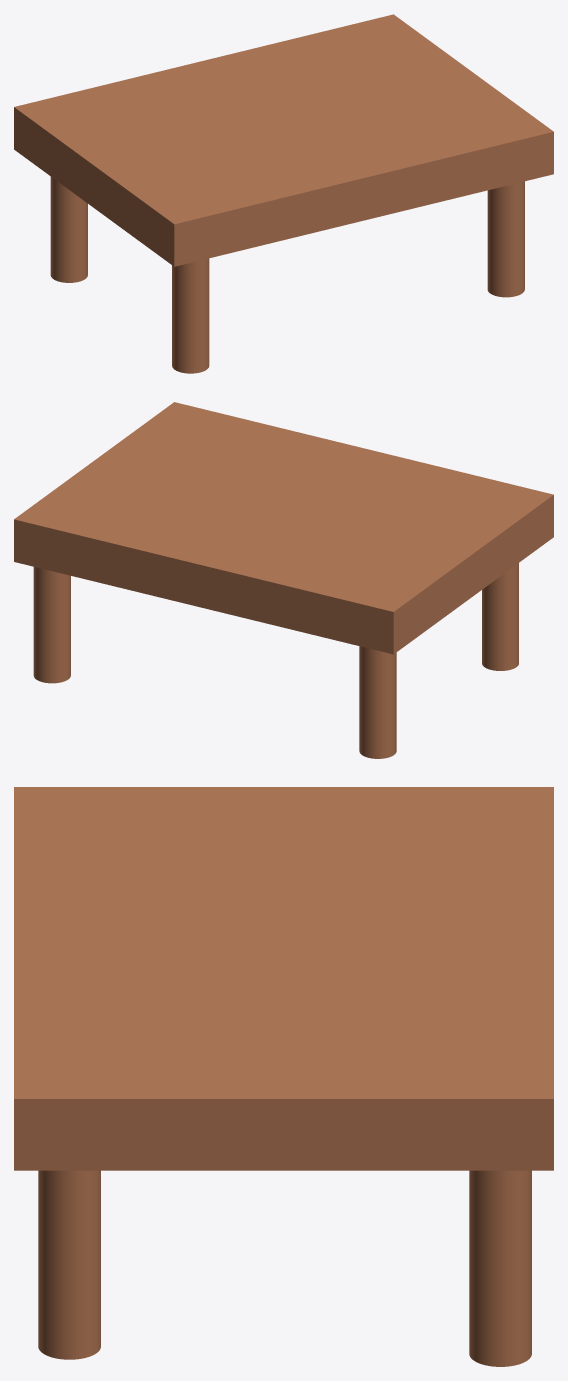
Rendered from table.glb.
3 renders of one model, top to bottom at view 1: azimuth 30°, elevation 25°; view 2: azimuth 150°, elevation 25°; view 3: azimuth 270°, elevation 25°, orthographic. The views are drawn at different scales.
Parts seen in each view (by area): view 1: mesh_id27, mesh_id35, mesh_id29, mesh_id36; view 2: mesh_id27, mesh_id37, mesh_id36, mesh_id29; view 3: mesh_id27, mesh_id37, mesh_id35.
Boxes of the visible parts, x1,y1,x2,y2 form: mesh_id27: [14, 14, 553, 266]; mesh_id35: [487, 181, 524, 297]; mesh_id29: [172, 258, 209, 373]; mesh_id36: [50, 176, 87, 282]; mesh_id27: [14, 402, 553, 654]; mesh_id37: [33, 567, 70, 683]; mesh_id36: [359, 646, 396, 758]; mesh_id29: [482, 563, 518, 670]; mesh_id27: [14, 787, 553, 1170]; mesh_id37: [469, 1170, 531, 1366]; mesh_id35: [38, 1170, 100, 1359].
Size of the model in its own units: 0.4368 by 0.1798 by 0.3196.
Materials: 5 (5 with a texture image).
